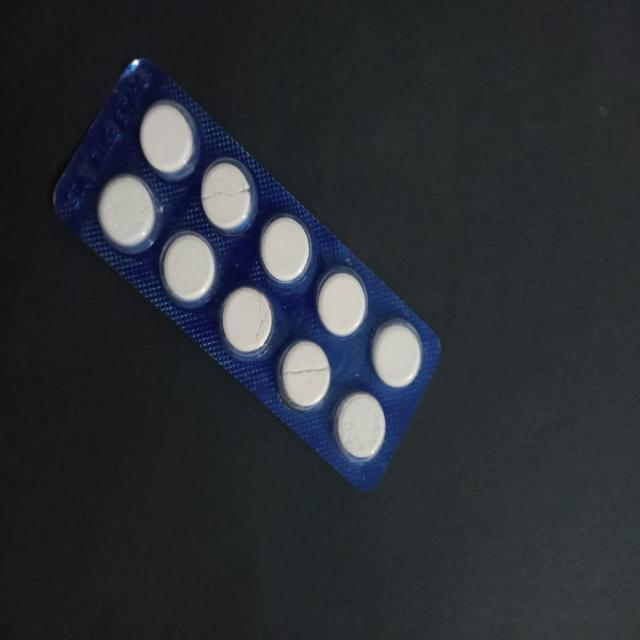defect: (276, 339, 332, 413), (199, 156, 254, 231), (219, 285, 274, 354)
